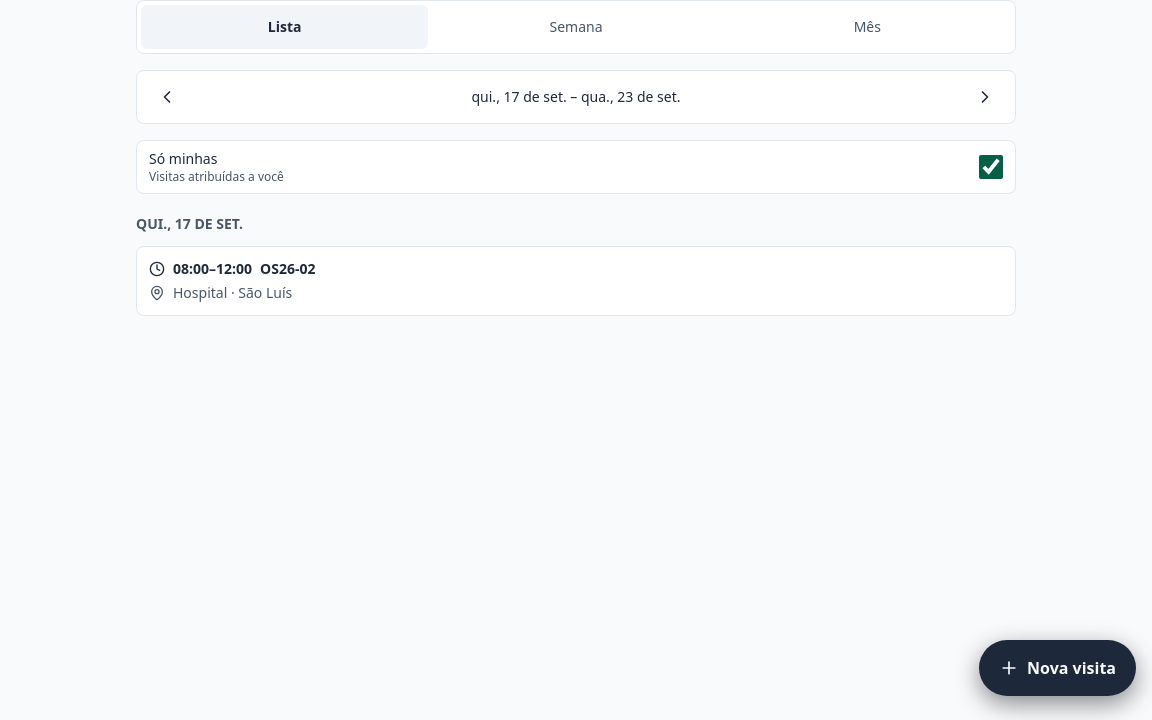
Modo Semana › o botão de modo alterna Lista e Semana
Check: the button "Técnico" is not shown
Click the button "Semana": (576, 27) [432,5,720,49]
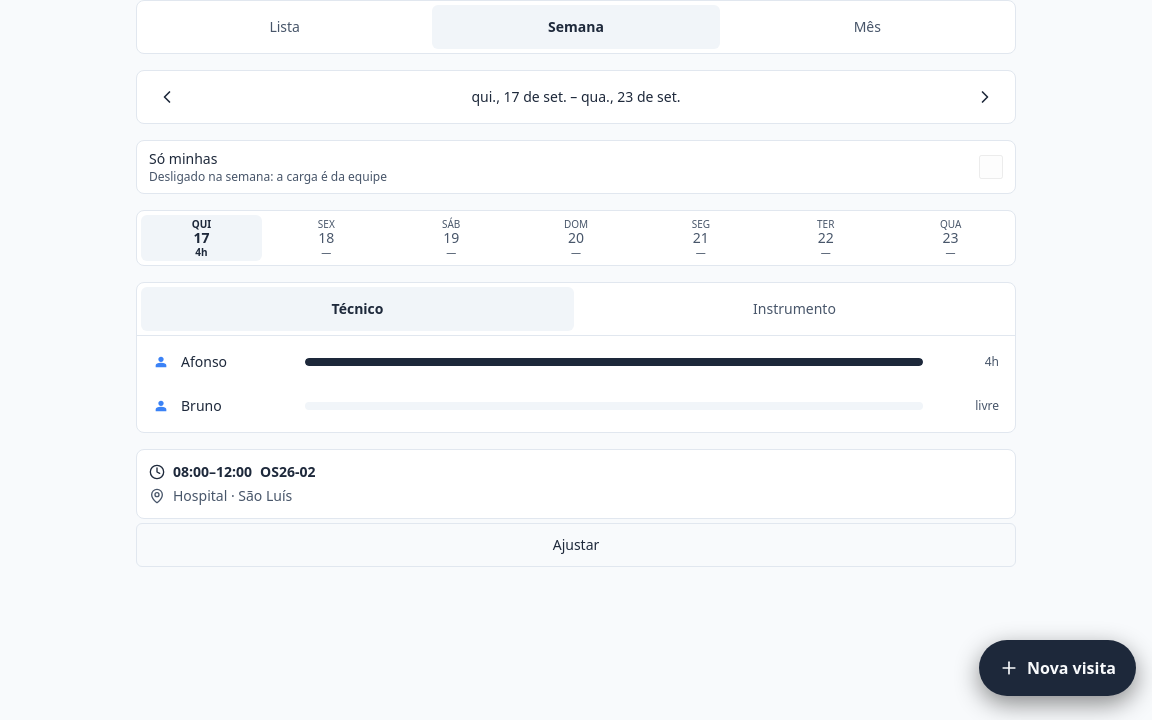
Check: the button "Técnico" is shown, box [141,286,574,330]
